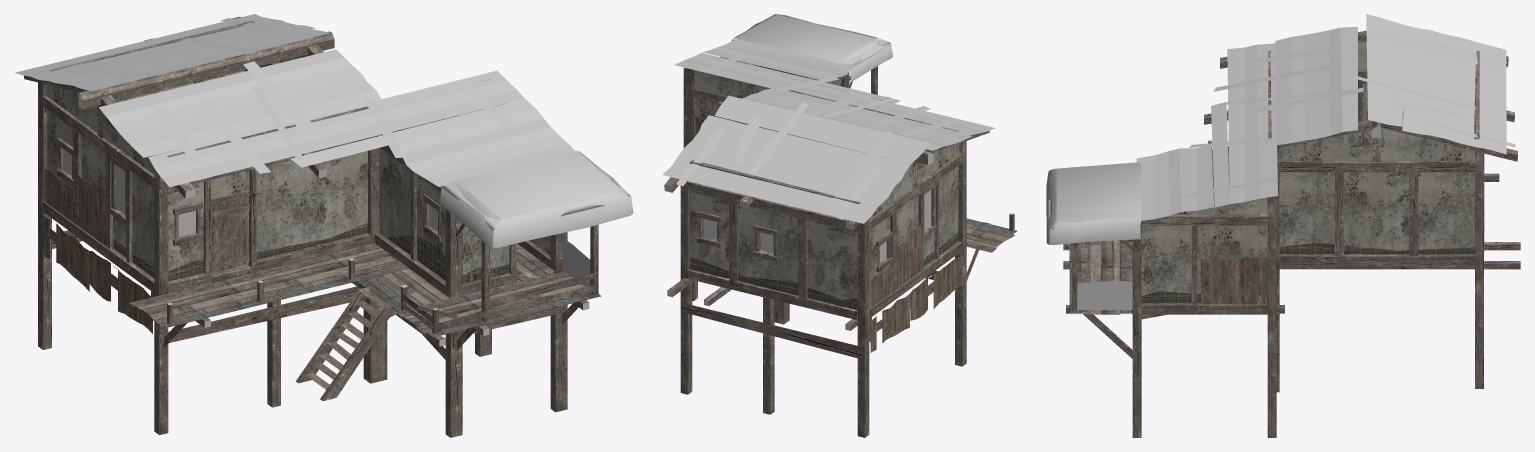
The model's file is House1_LOD2.fbx.
The picture shows the model from 3 angles, left to right: view 1: azimuth 30°, elevation 25°; view 2: azimuth 150°, elevation 25°; view 3: azimuth 270°, elevation 25°; orthographic projection. The views are drawn at different scales.
Parts seen in each view (by area): view 1: Base, Stairs, Doors; view 2: Base; view 3: Base.
Boxes of the visible parts, bbox=[...] form: Base: bbox=[15, 14, 633, 437]; Stairs: bbox=[296, 287, 396, 400]; Doors: bbox=[211, 197, 249, 273]; Base: bbox=[662, 14, 1017, 437]; Base: bbox=[1046, 14, 1520, 437].
Size of the model in its own units: 13.12 by 10.2 by 15.73.
